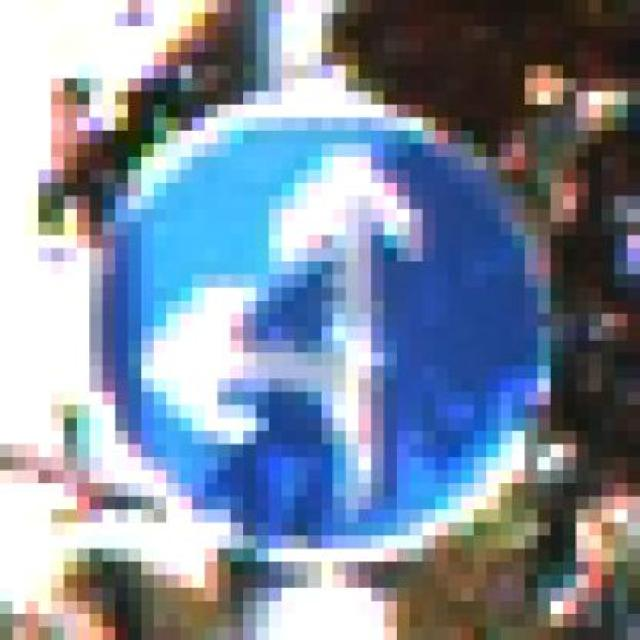Go straight or turn left: (64, 79, 576, 562)
